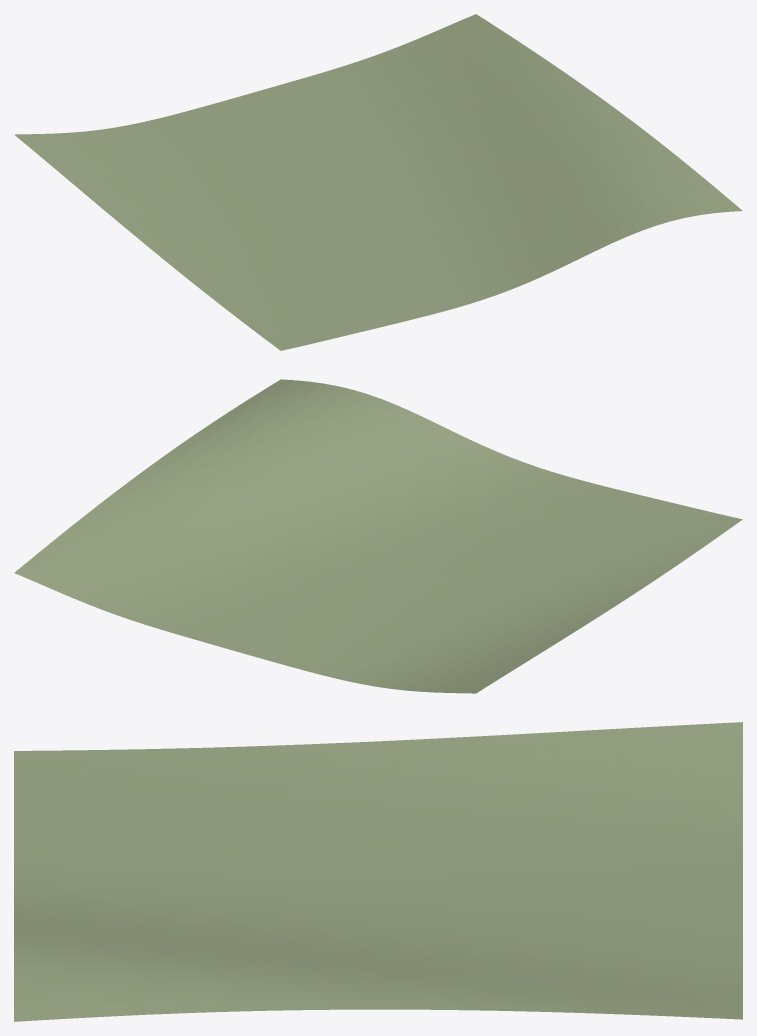
File: desert-9-6.glb
3 views of the same model, one above another, from view 1: azimuth 30°, elevation 25°; view 2: azimuth 150°, elevation 25°; view 3: azimuth 270°, elevation 25° (orthographic). The views are drawn at different scales.
Parts seen in each view (by area): view 1: desert-9-6; view 2: desert-9-6; view 3: desert-9-6.
Part boxes in pixels (x1,y1,x2,y2): desert-9-6: (14,14,742,350); desert-9-6: (14,379,742,693); desert-9-6: (14,722,742,1021).
Bounding box in the file's own units: 512 × 39.23 × 512.
